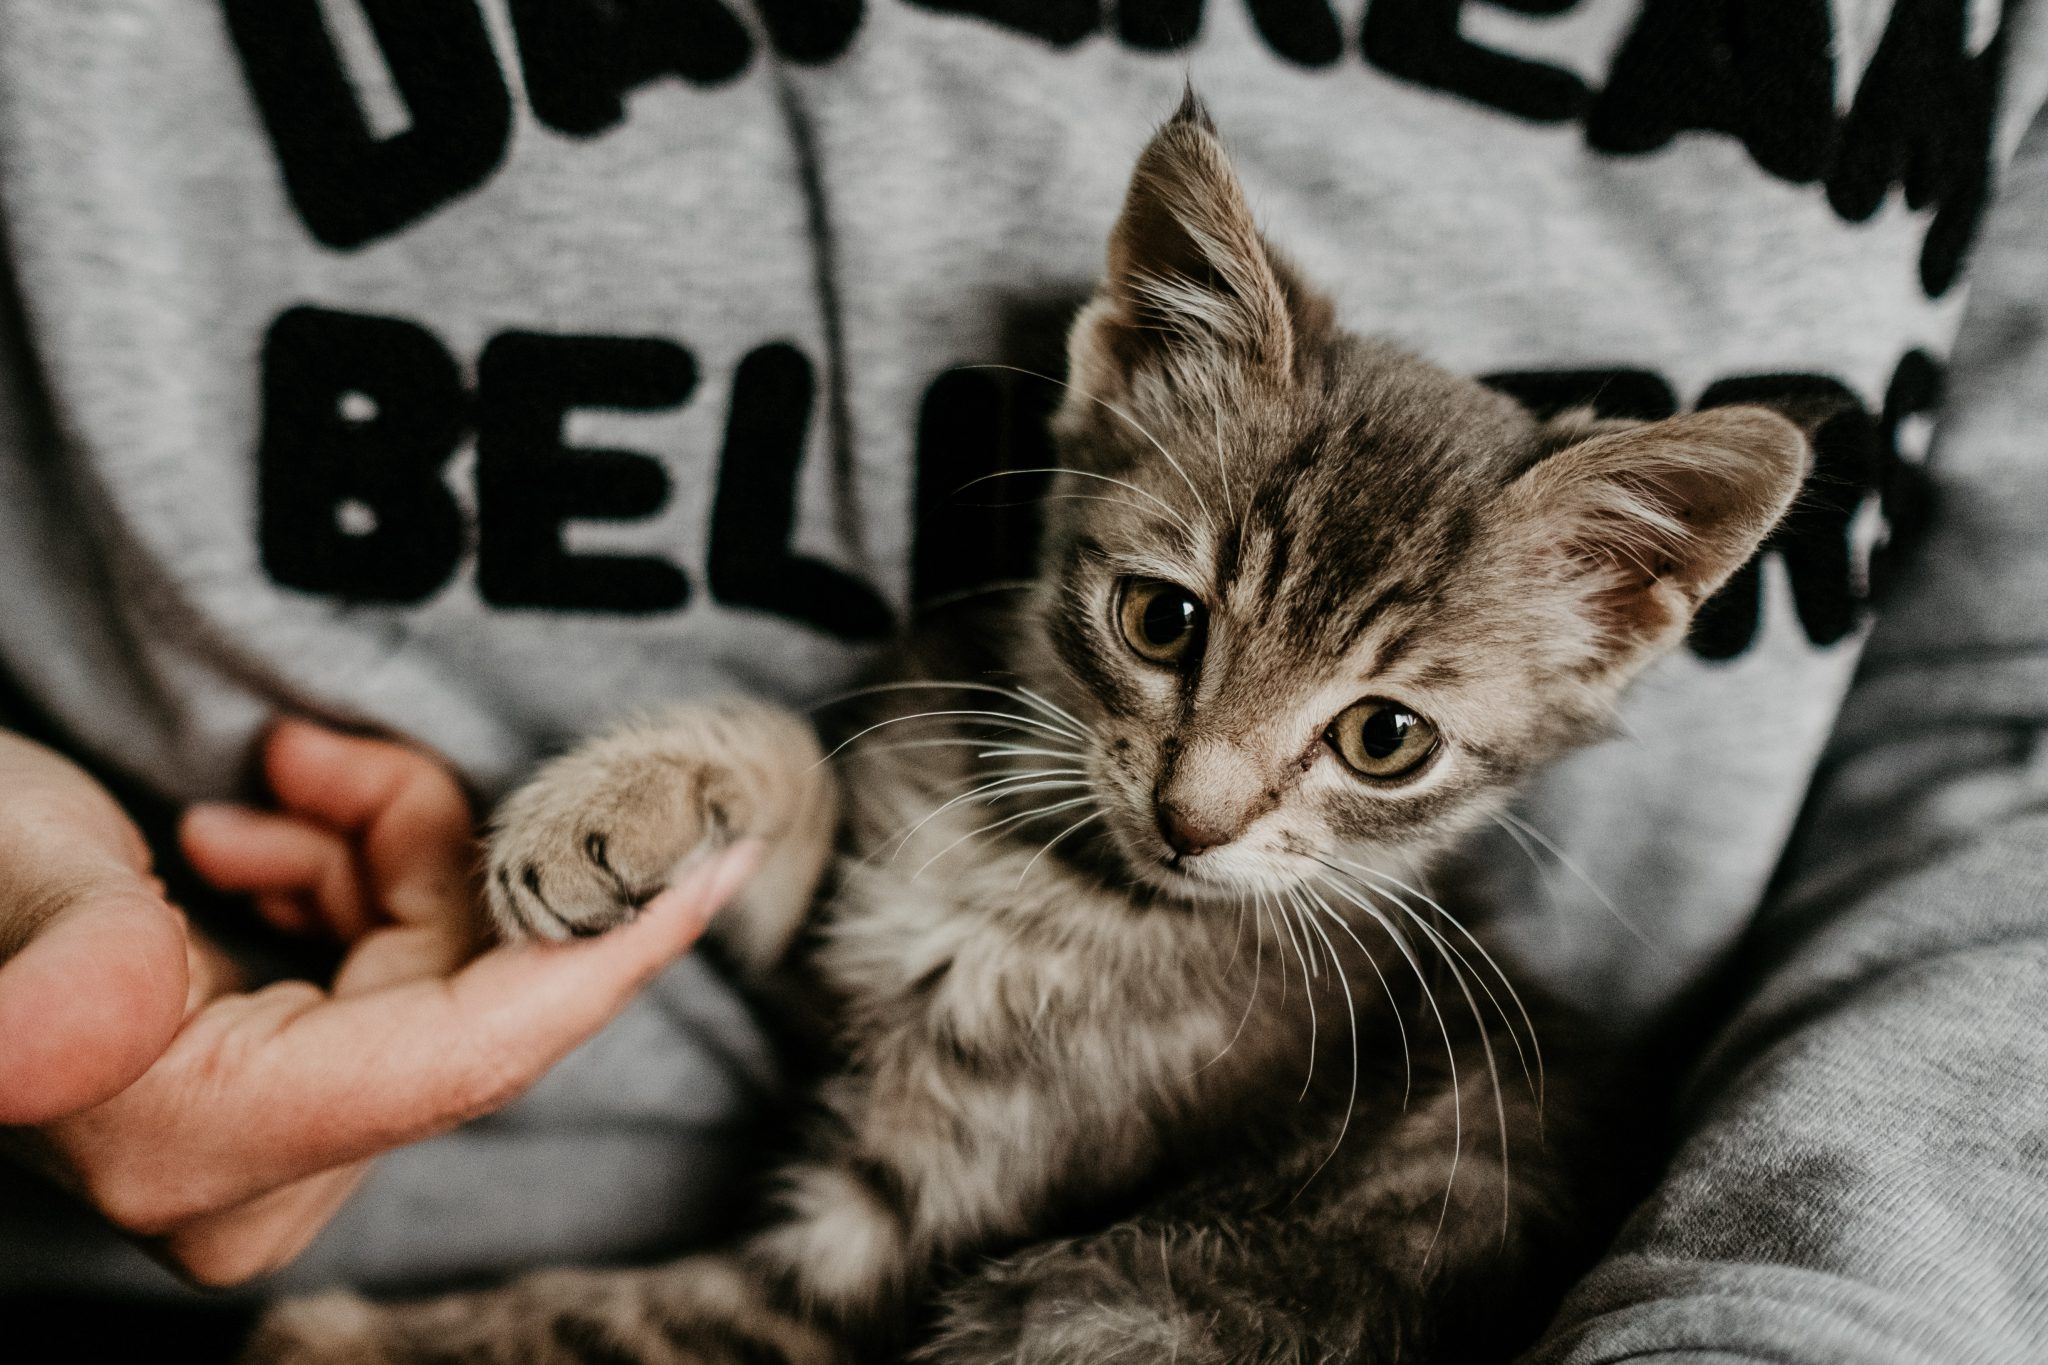cat: (448, 73, 1871, 1365)
cat-face: (1006, 84, 1850, 948)
